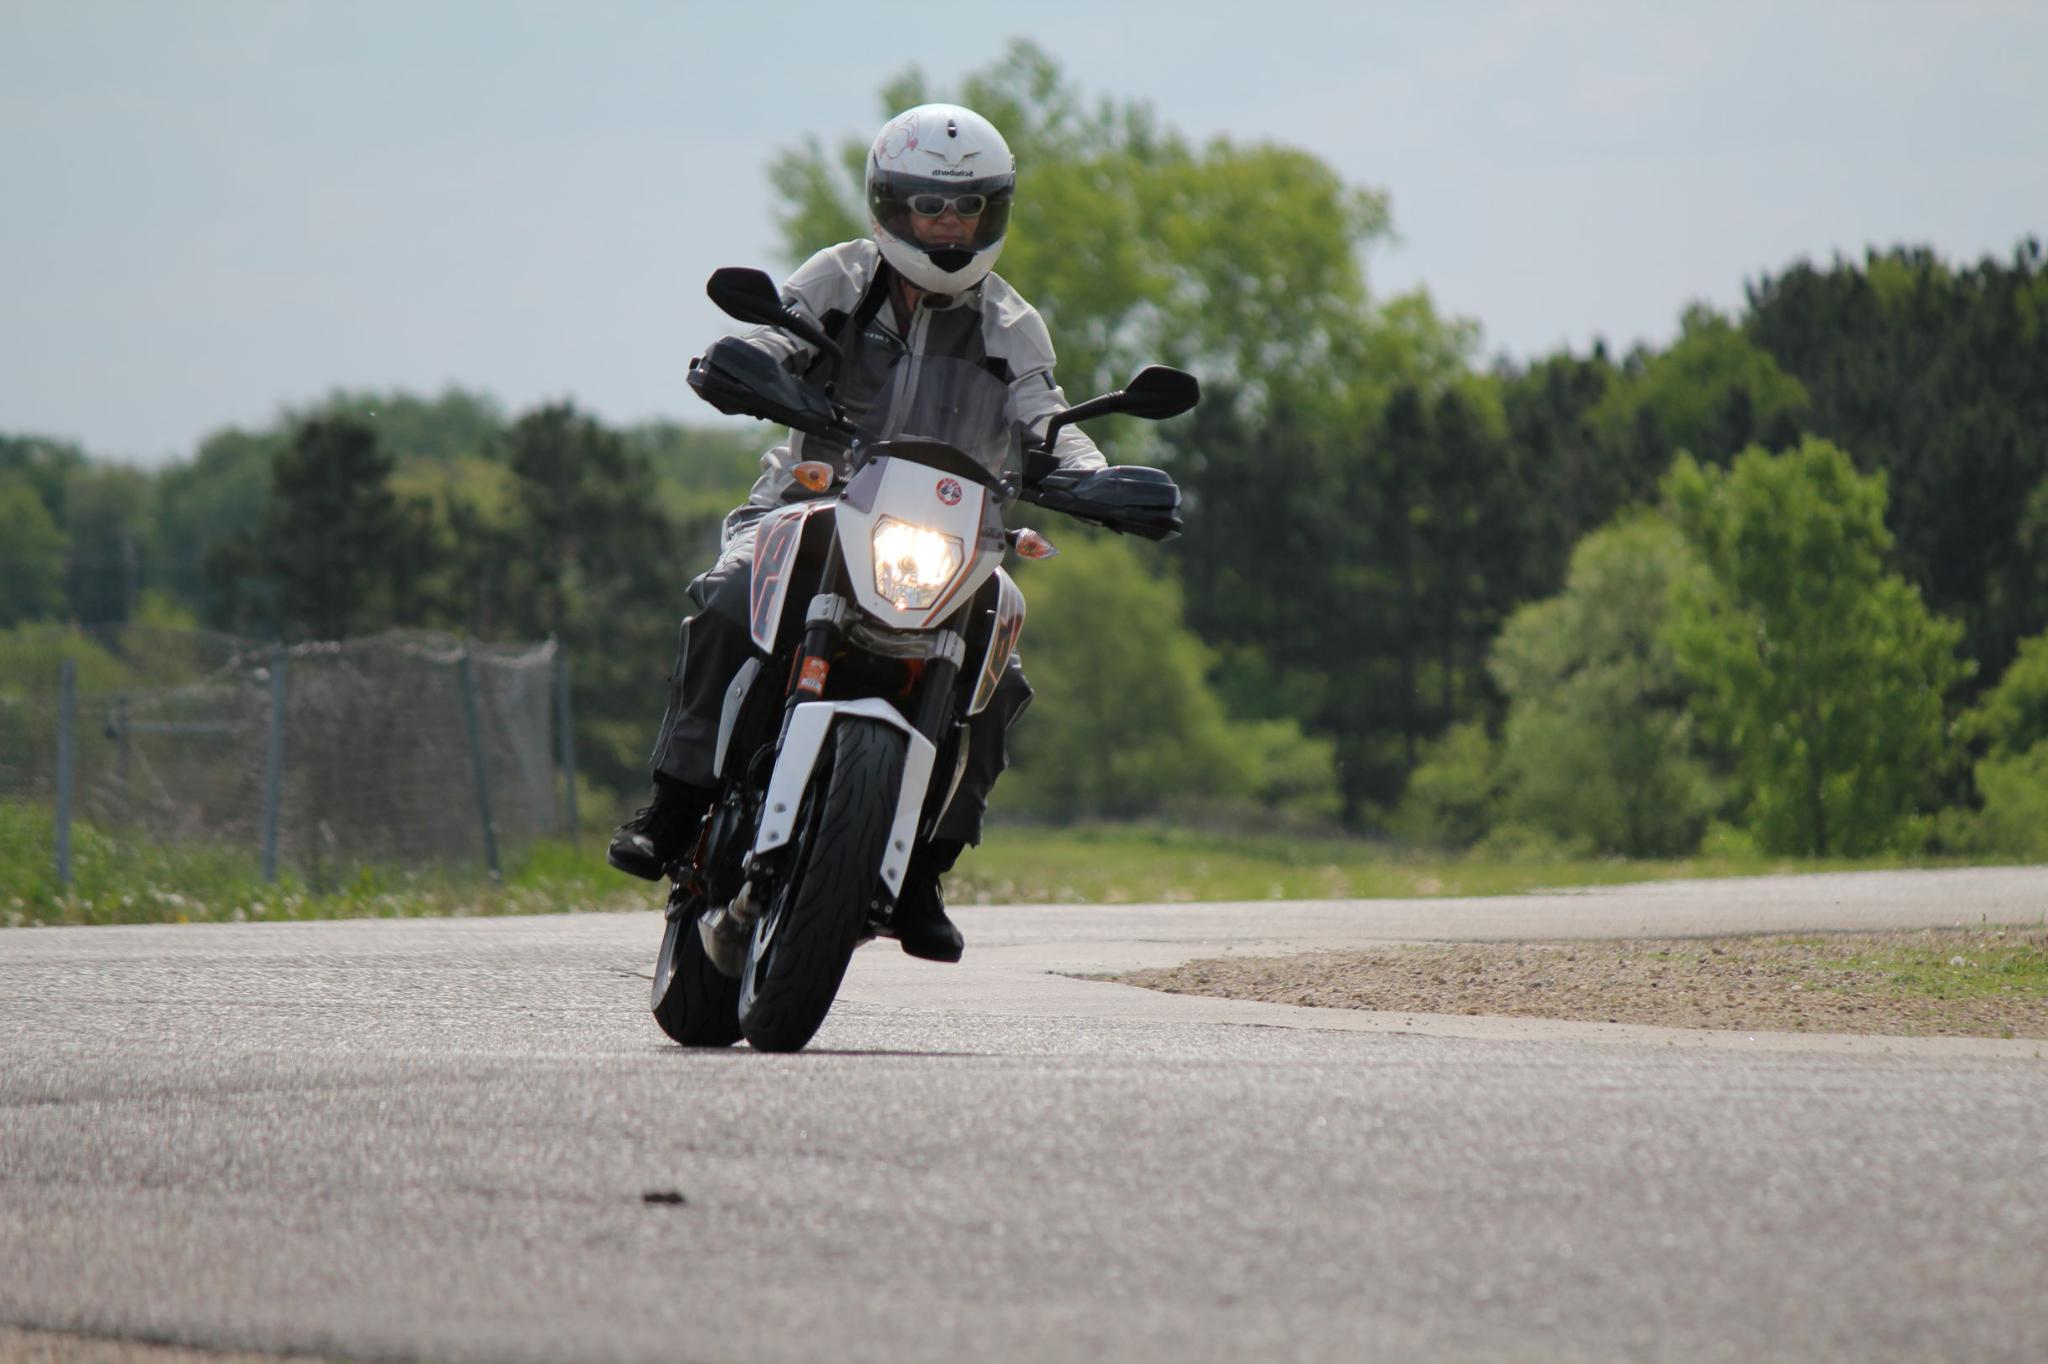motorcycle: (612, 239, 1216, 1072)
